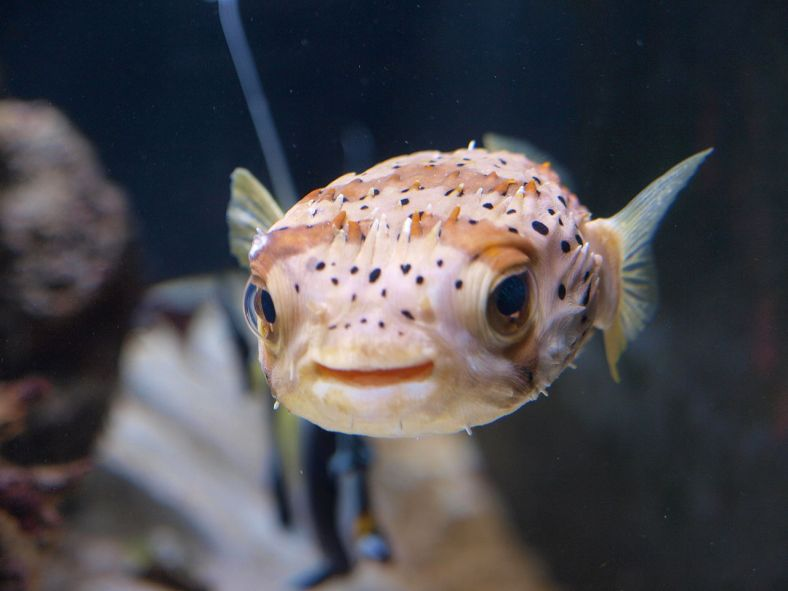Diodon_holocanthus: (192, 130, 724, 445)
